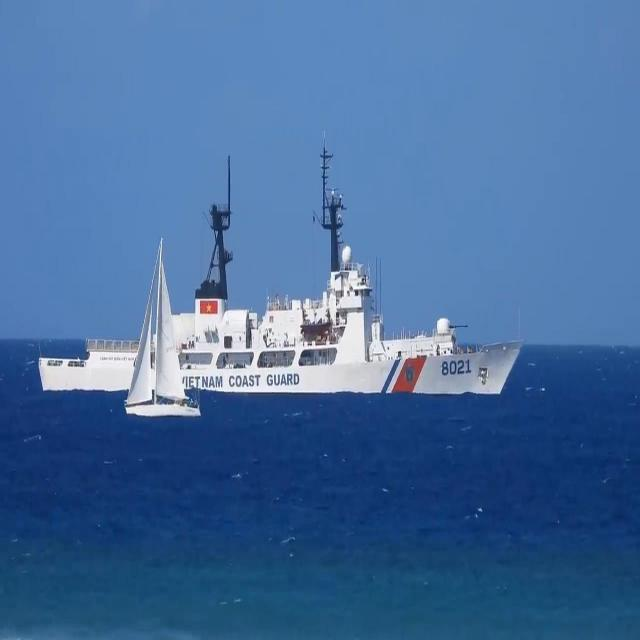Ship: (37, 168, 522, 400), (127, 230, 203, 423)
